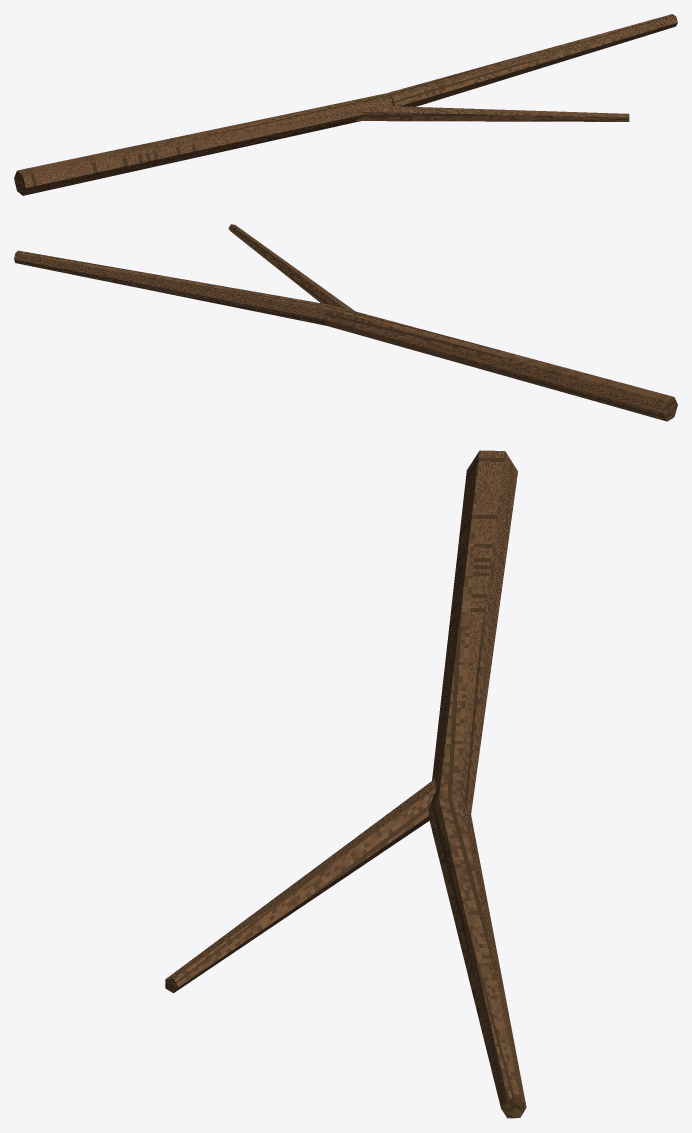
Rendered from twig.glb.
3 views of the same model, one above another, from view 1: azimuth 30°, elevation 25°; view 2: azimuth 150°, elevation 25°; view 3: azimuth 270°, elevation 25° (orthographic). The views are drawn at different scales.
Parts seen in each view (by area): view 1: block_main, block_tip, block_shoot; view 2: block_main, block_tip, block_shoot; view 3: block_main, block_tip, block_shoot.
Part boxes in pixels (x1=…): block_main: x1=14, y1=93, x2=393, y2=195; block_tip: x1=386, y1=14, x2=677, y2=106; block_shoot: x1=355, y1=105, x2=629, y2=121; block_main: x1=324, y1=305, x2=677, y2=421; block_tip: x1=14, y1=250, x2=331, y2=325; block_shoot: x1=228, y1=224, x2=354, y2=311; block_main: x1=428, y1=450, x2=517, y2=814; block_tip: x1=428, y1=798, x2=526, y2=1118; block_shoot: x1=165, y1=779, x2=436, y2=993.
Size of the model in its own units: 0.3506 by 0.0104 by 0.0844.
Materials: 1 (1 with a texture image).
